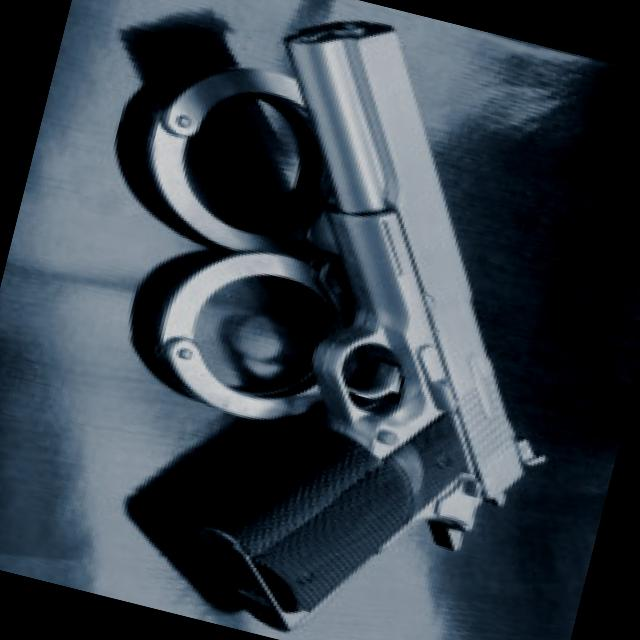handgun: (112, 4, 631, 639)
